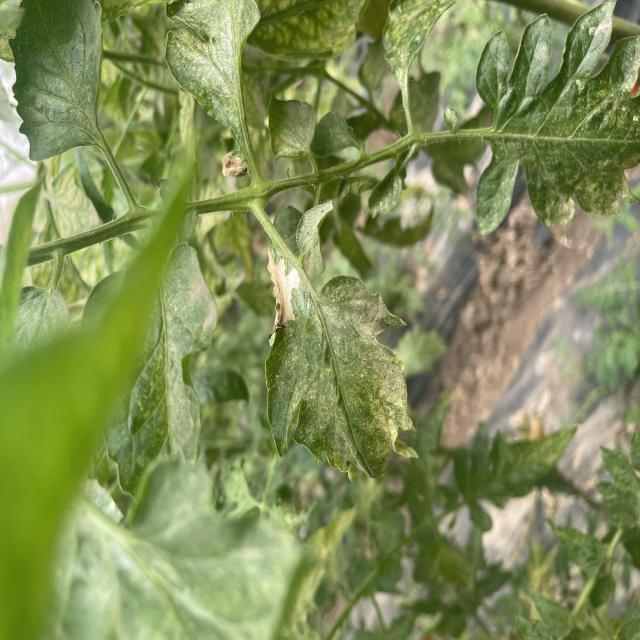Tuta absoluta: (267, 252, 302, 335)
